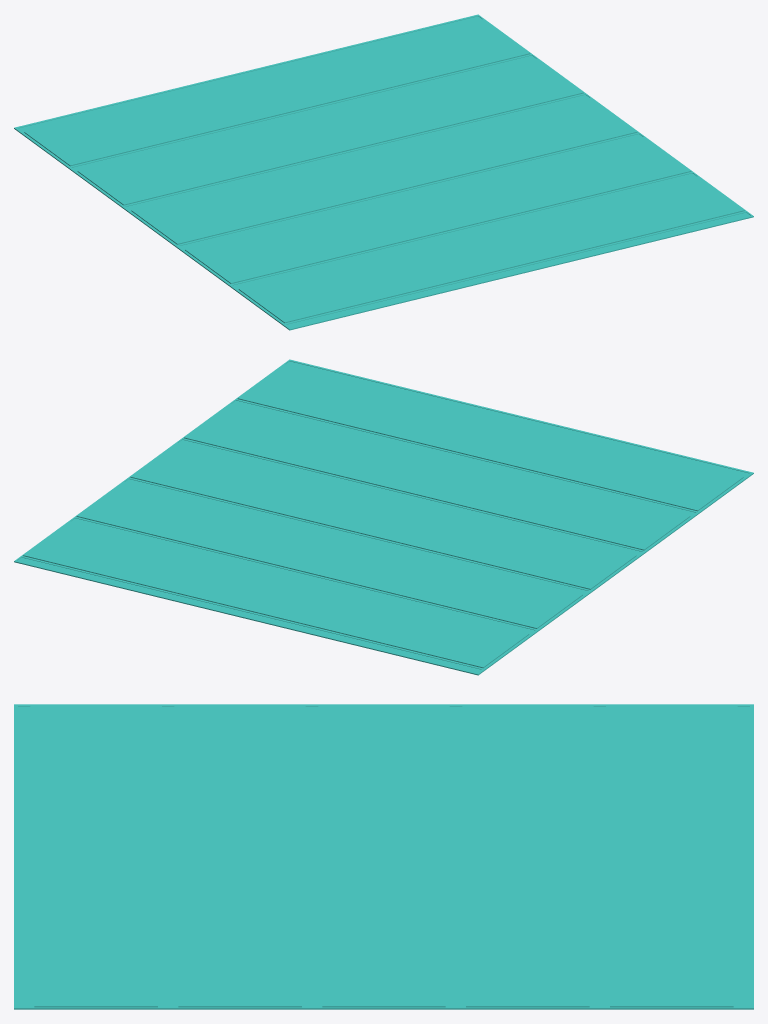
The model's file is LabFloor.fbx.
The picture shows the model from 3 angles, top to bottom: view 1: azimuth 30°, elevation 25°; view 2: azimuth 150°, elevation 25°; view 3: azimuth 270°, elevation 25°; orthographic projection. The views are drawn at different scales.
Parts seen in each view (by area): view 1: Plane; view 2: Plane; view 3: Plane.
Part boxes in pixels (x1=…): Plane: x1=14, y1=14, x2=753, y2=330; Plane: x1=14, y1=359, x2=753, y2=675; Plane: x1=14, y1=704, x2=753, y2=1009.
Size of the model in its own units: 1507 by 5.86 by 1550.
